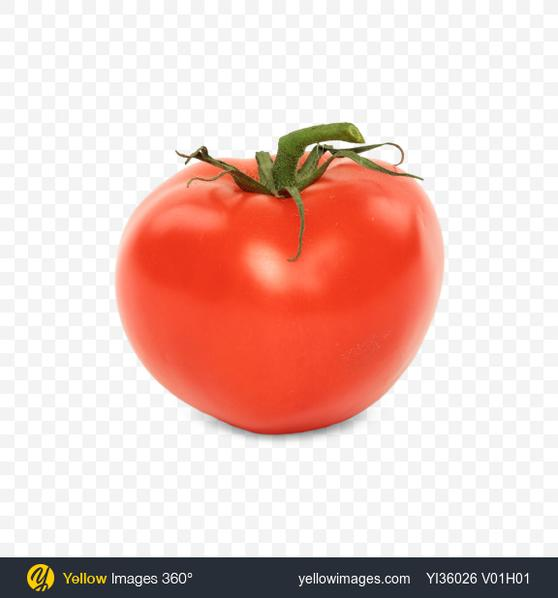tomato: (100, 118, 450, 433)
